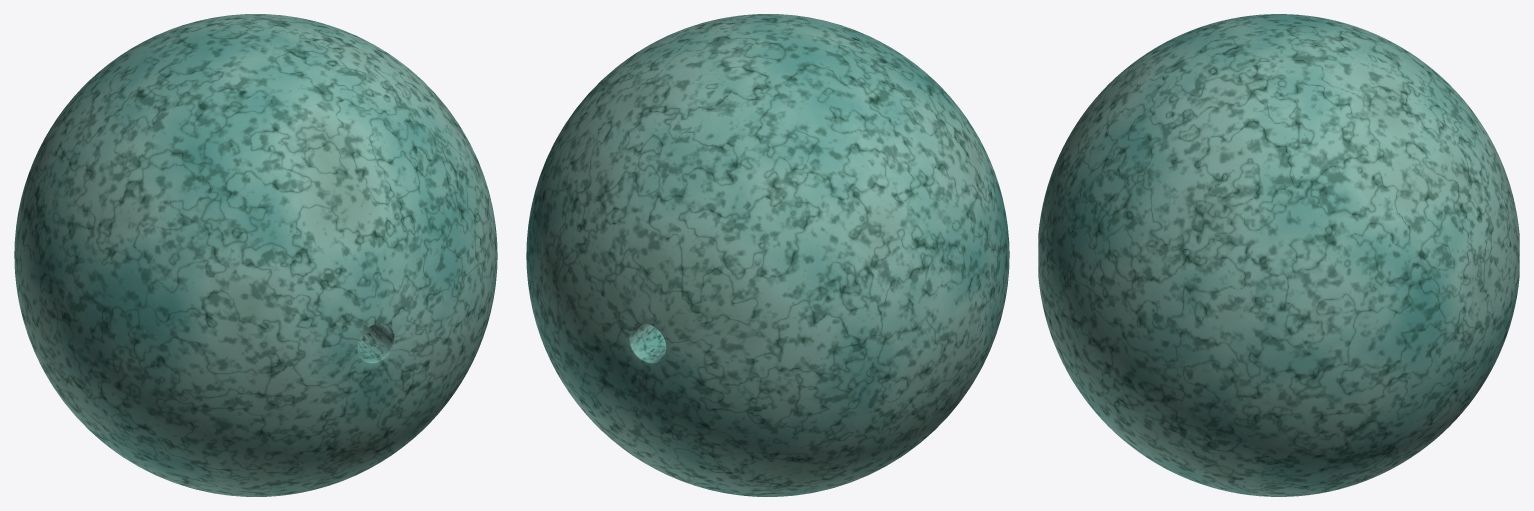
Rendered from moss-agate-12mm.glb.
3 views of the same model, side by side, from view 1: azimuth 30°, elevation 25°; view 2: azimuth 150°, elevation 25°; view 3: azimuth 270°, elevation 25° (orthographic).
Visible parts, largest first — view 1: moss-agate.001; view 2: moss-agate.001; view 3: moss-agate.001.
Part boxes in pixels (x1,y1,x2,y2): moss-agate.001: (14,14,497,496); moss-agate.001: (526,14,1009,496); moss-agate.001: (1038,14,1519,496).
Size of the model in its own units: 0.012 by 0.012 by 0.012.
Materials: 2 (1 with a texture image).
